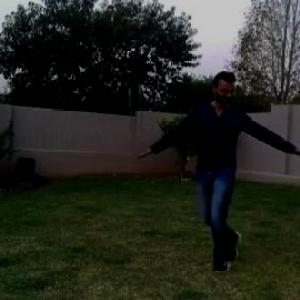land: (141, 80, 299, 254)
